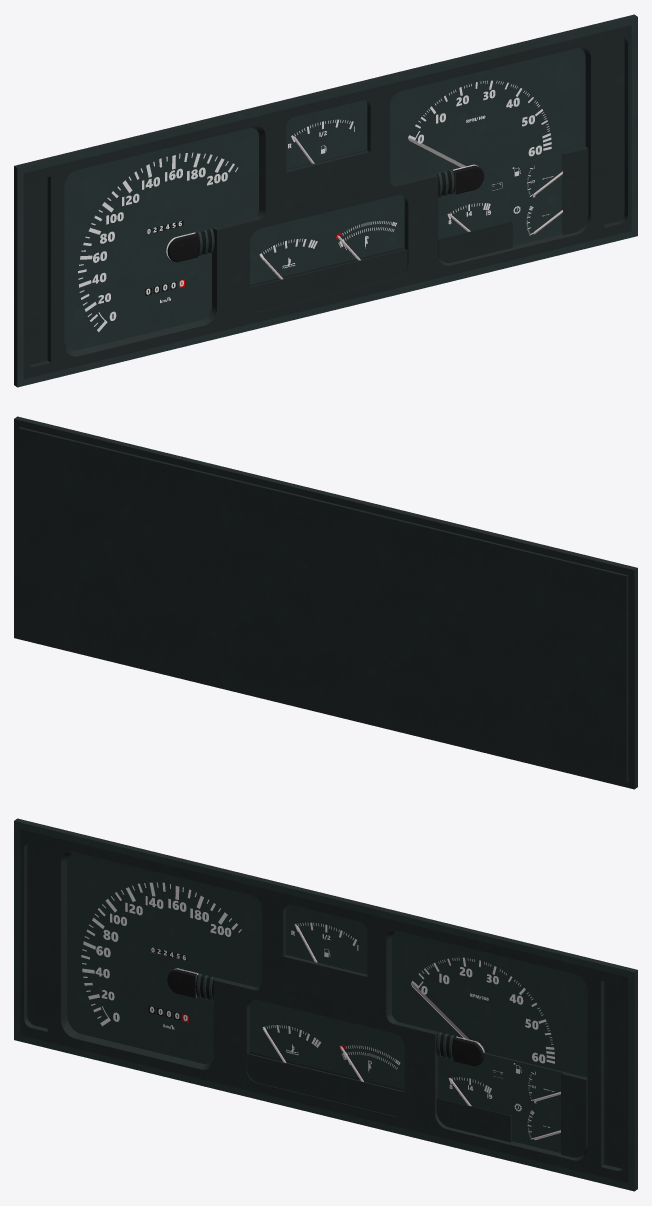
The model's file is speedometer.fbx.
3 views of the same model, one above another, from view 1: azimuth 30°, elevation 25°; view 2: azimuth 150°, elevation 25°; view 3: azimuth 330°, elevation 25° (orthographic).
Visible parts, largest first — view 1: Ultimate instrument cluster; view 2: Ultimate instrument cluster; view 3: Ultimate instrument cluster.
Boxes of the visible parts, <box> form: Ultimate instrument cluster: <box>14,14,637,387</box>; Ultimate instrument cluster: <box>14,416,637,789</box>; Ultimate instrument cluster: <box>14,818,637,1191</box>.
Size of the model in its own units: 2758 by 931 by 37.6.
Materials: 9 (5 with a texture image).
